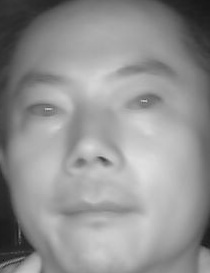eye: (120, 91, 164, 116), (23, 97, 66, 121)
mouth: (52, 185, 138, 233)
